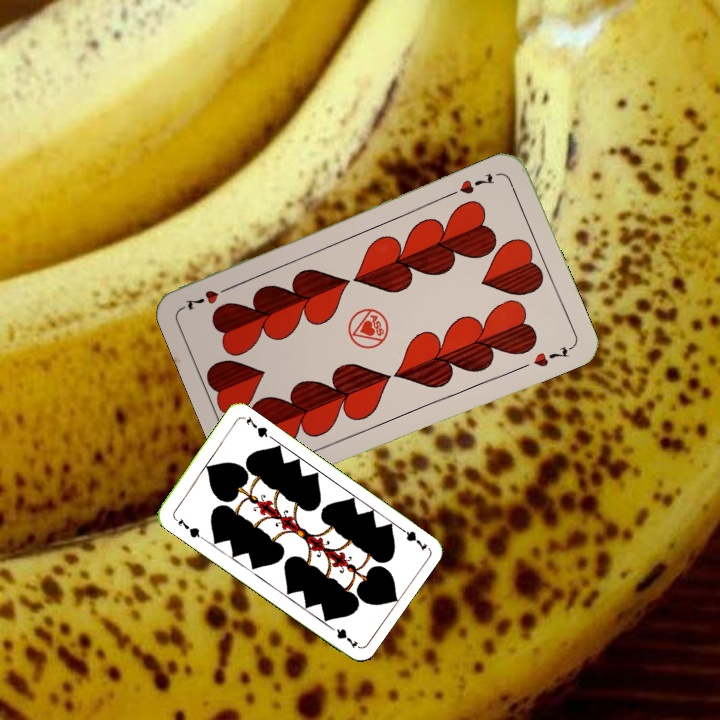G7: (394, 522, 430, 553), (174, 514, 205, 541)
H7: (445, 169, 497, 199)
